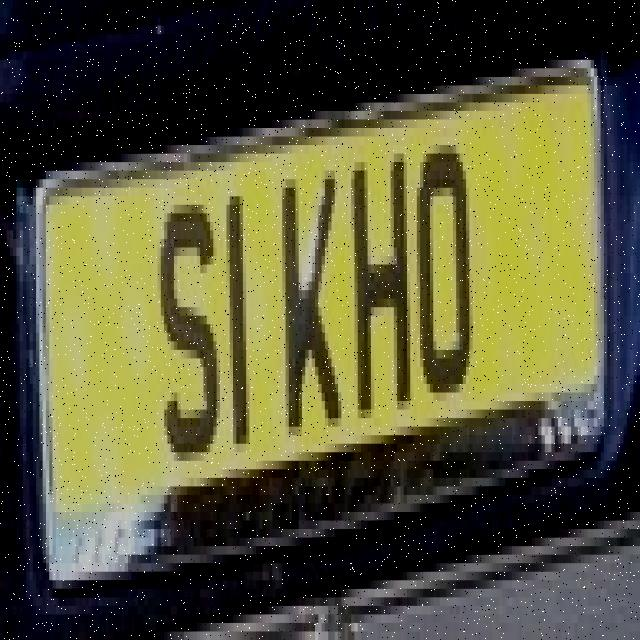licenseplate: (17, 35, 618, 556)
